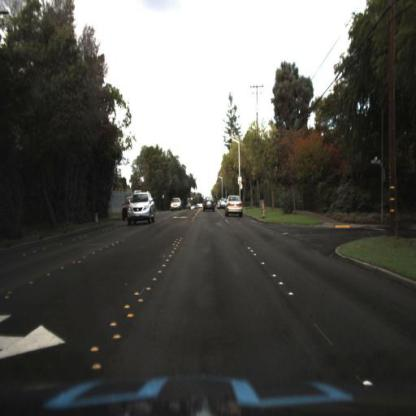car: (127, 184, 157, 231), (227, 195, 245, 221), (203, 194, 216, 215), (170, 194, 184, 213), (217, 197, 229, 209)
